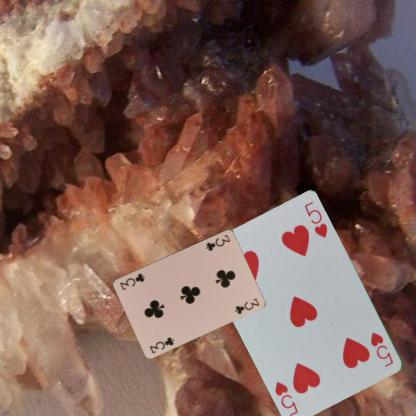3c: (146, 334, 176, 354), (203, 232, 232, 252)
5h: (368, 329, 395, 368)
